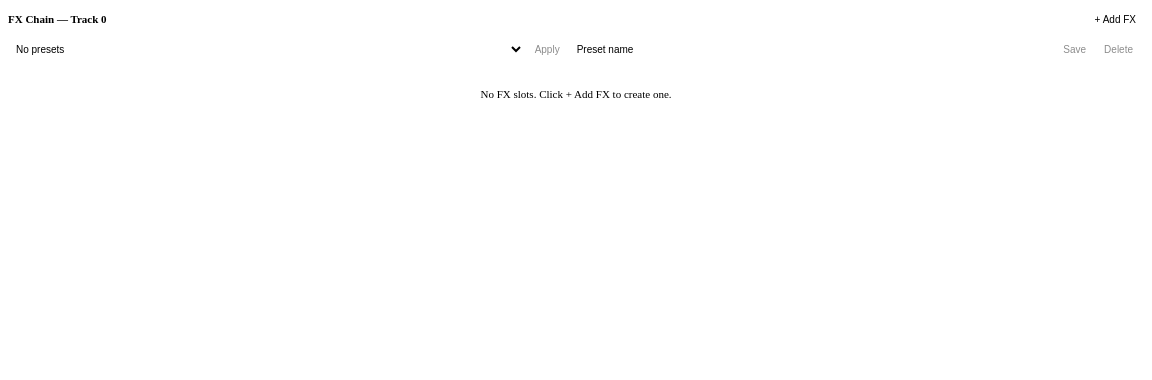
it: FXChain › plugin loading flow › opens dropdown when + Add FX is clicked
The image size is (1152, 380).
Click the button "+ Add FX": point(1115, 19) [1087,8,1144,30]
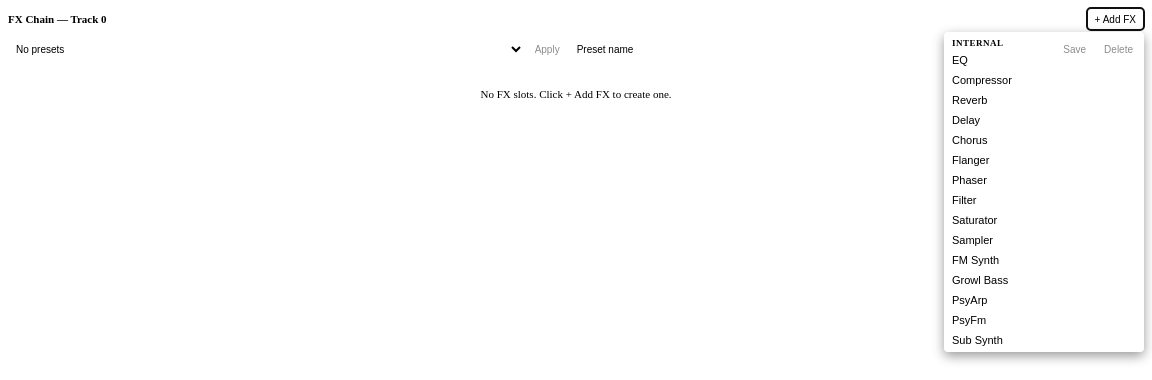
Now the text "Internal" is shown, box [952,38,1004,48]
Now the button "EQ" is shown, box [944,50,1144,70]
Now the button "Compressor" is shown, box [944,70,1144,90]
